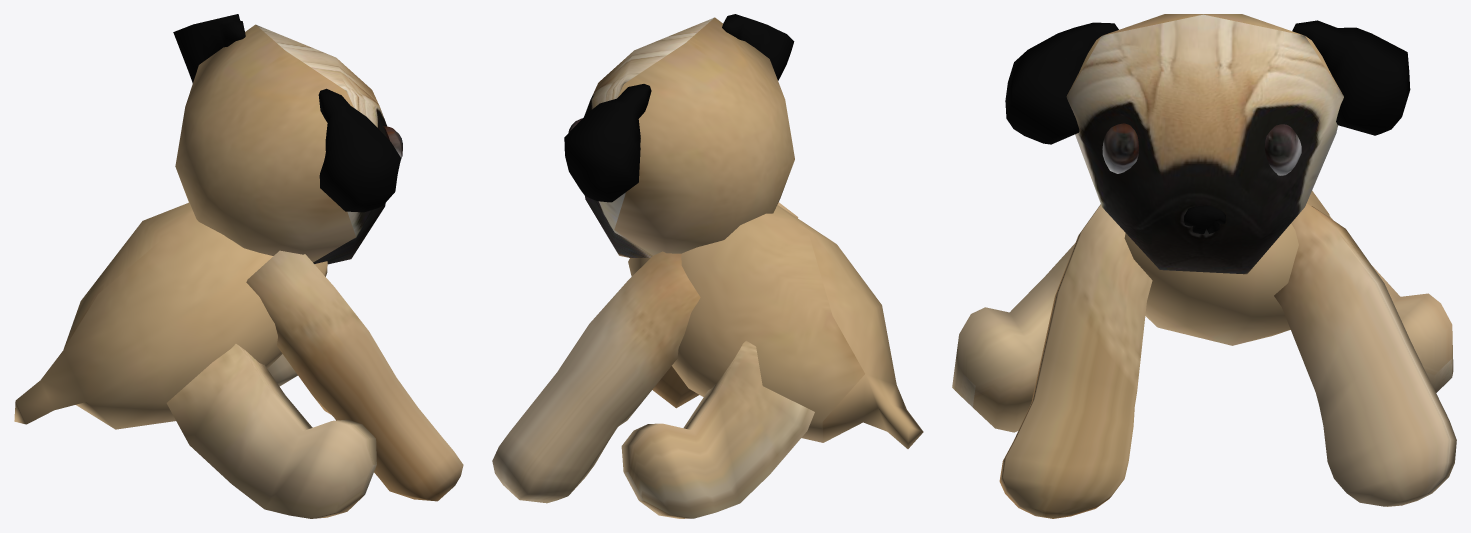
File: WorldItem_PlushiePugAZ.fbx
3 views of the same model, side by side, from view 1: azimuth 30°, elevation 25°; view 2: azimuth 150°, elevation 25°; view 3: azimuth 270°, elevation 25° (orthographic). The views are drawn at different scales.
Visible parts, largest first — view 1: Sphere; view 2: Sphere; view 3: Sphere.
Part boxes in pixels (x1=…): Sphere: x1=14, y1=14, x2=463, y2=518; Sphere: x1=492, y1=14, x2=923, y2=518; Sphere: x1=952, y1=14, x2=1456, y2=518.
Size of the model in its own units: 352 by 407 by 402.
